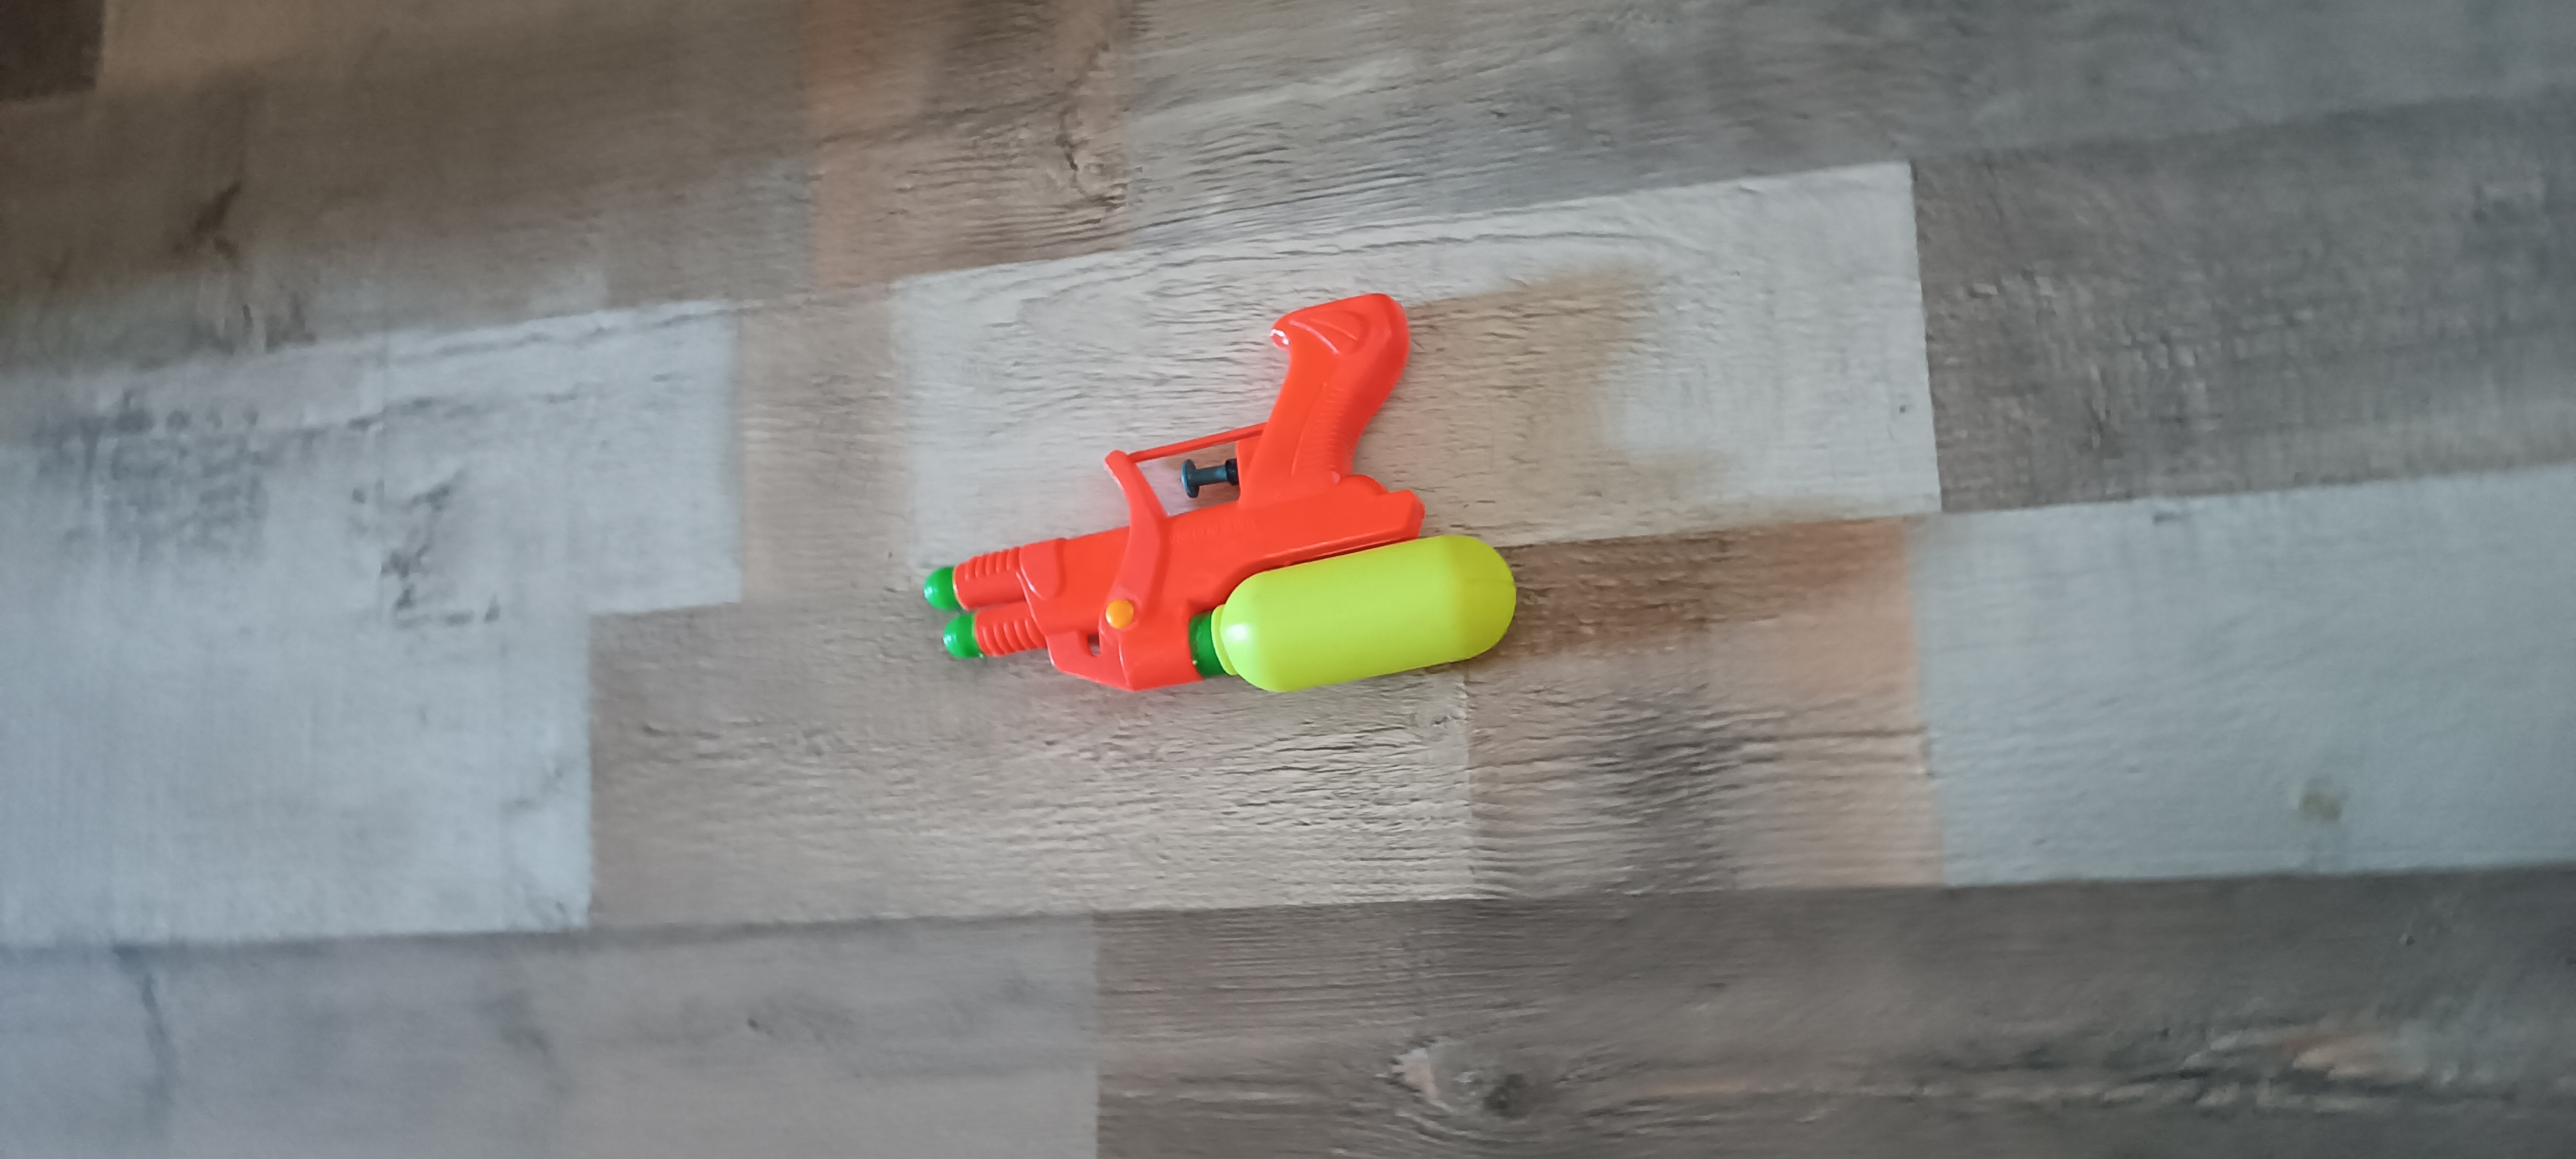Water Gun: (923, 292, 1520, 693)
